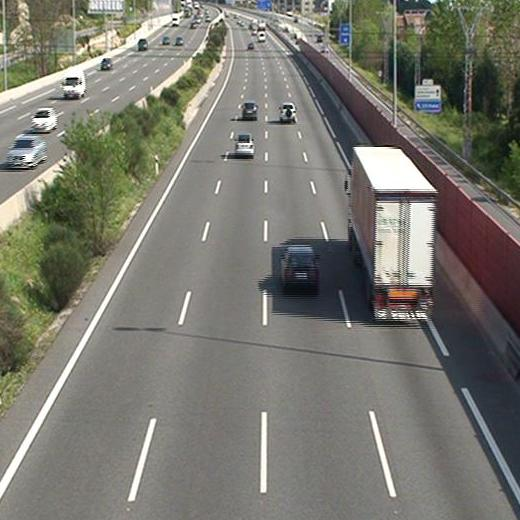car: (280, 246, 318, 292), (234, 132, 255, 157), (279, 101, 297, 124), (242, 100, 258, 119)
truck: (347, 144, 434, 324)
